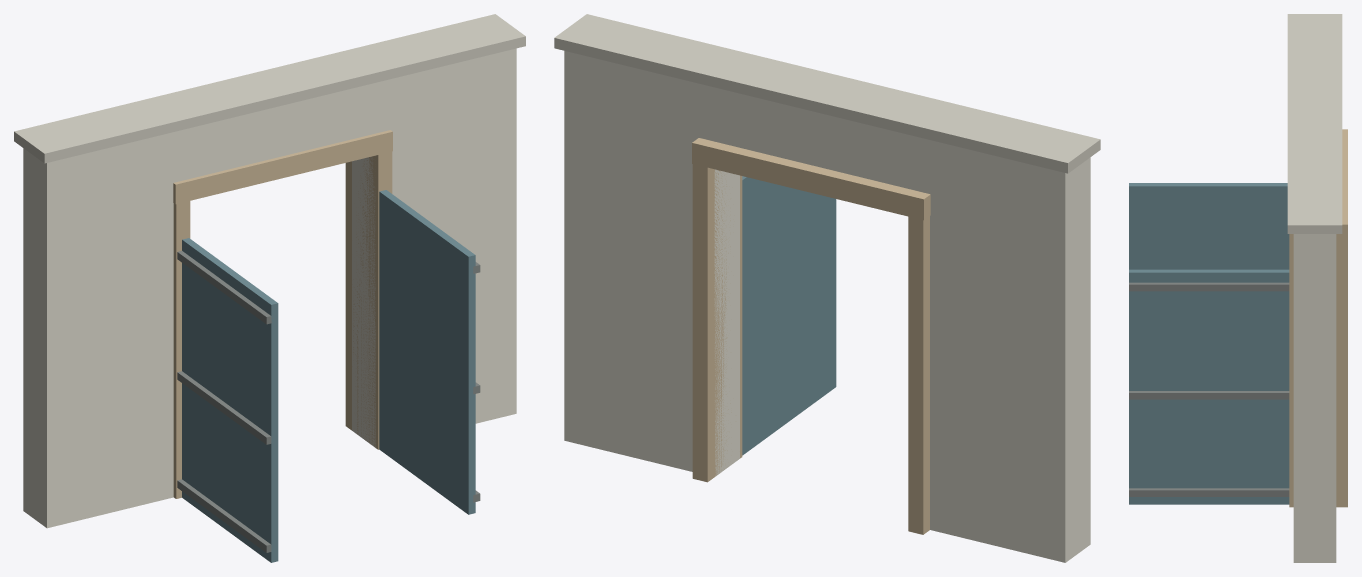
The model's file is wall_courtyard_c.glb.
3 renders of one model, left to right at view 1: azimuth 30°, elevation 25°; view 2: azimuth 150°, elevation 25°; view 3: azimuth 270°, elevation 25°, orthographic. The views are drawn at different scales.
Parts seen in each view (by area): view 1: LOD0; view 2: LOD0; view 3: LOD0.
Boxes of the visible parts, bbox=[...] form: LOD0: bbox=[14, 14, 525, 562]; LOD0: bbox=[554, 14, 1100, 562]; LOD0: bbox=[1129, 14, 1347, 562].
Size of the model in its own units: 4.1 by 3.08 by 1.79.
